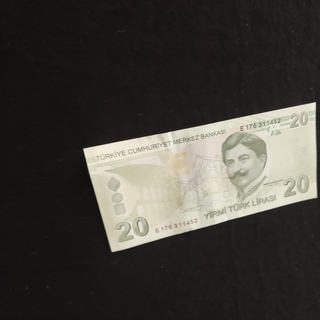20TLBack: (83, 101, 318, 252)
